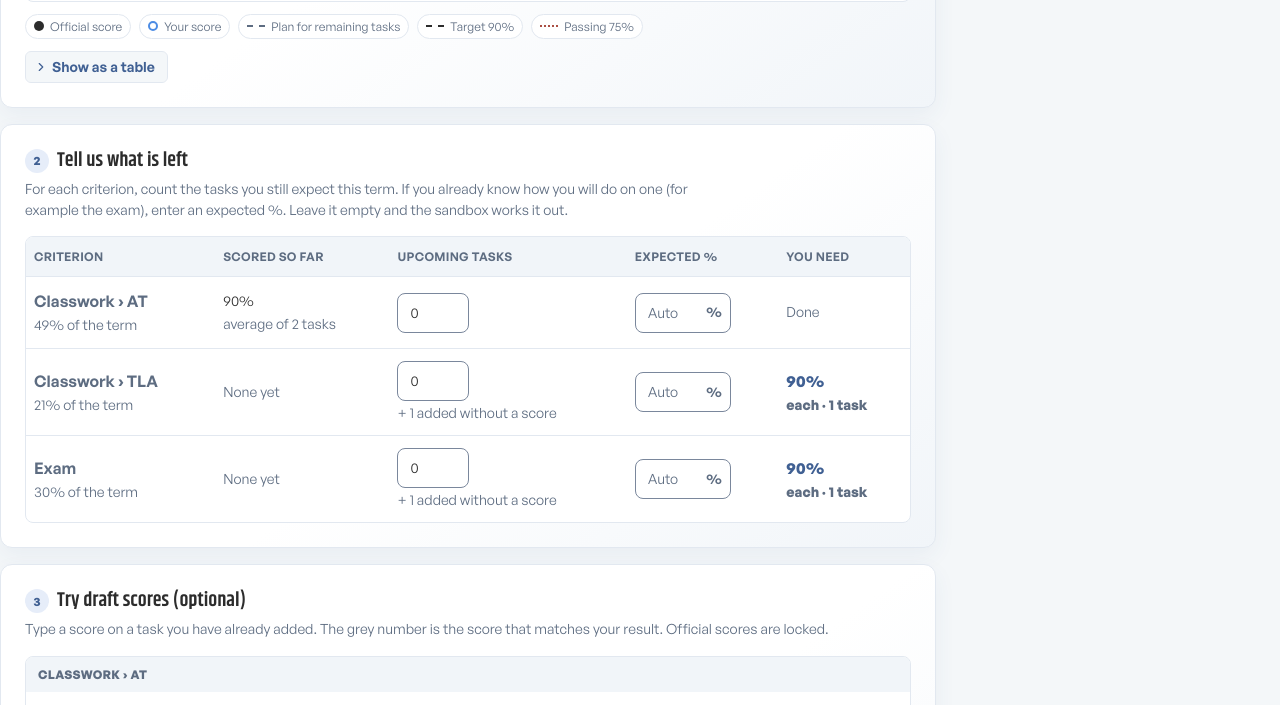
sandbox settings › clearing upcoming tasks saves 0 at once (docs/AUDIT.md B16)
(page scrolled)
Replace the text in the number field named "Upcoming AT tasks not added yet" with "2": (434, 313) [398, 293, 470, 333]
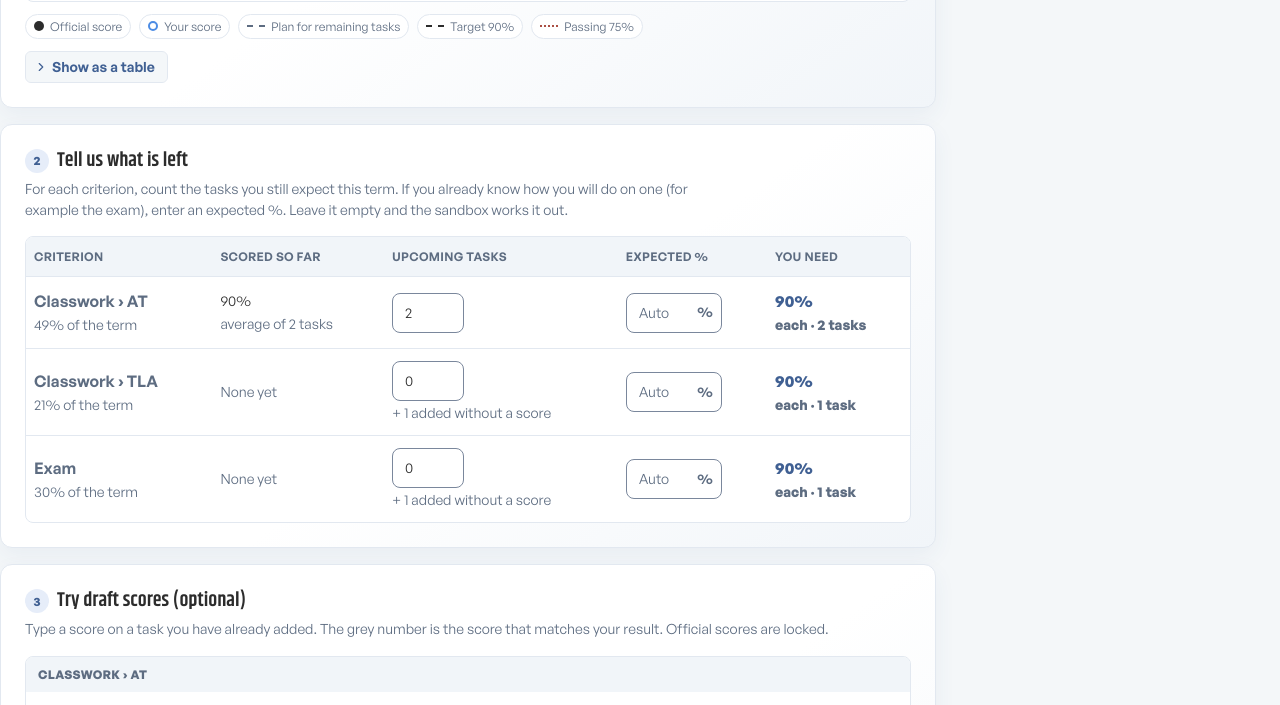
Clear the number field named "Upcoming AT tasks not added yet": (428, 313) [392, 293, 464, 333]
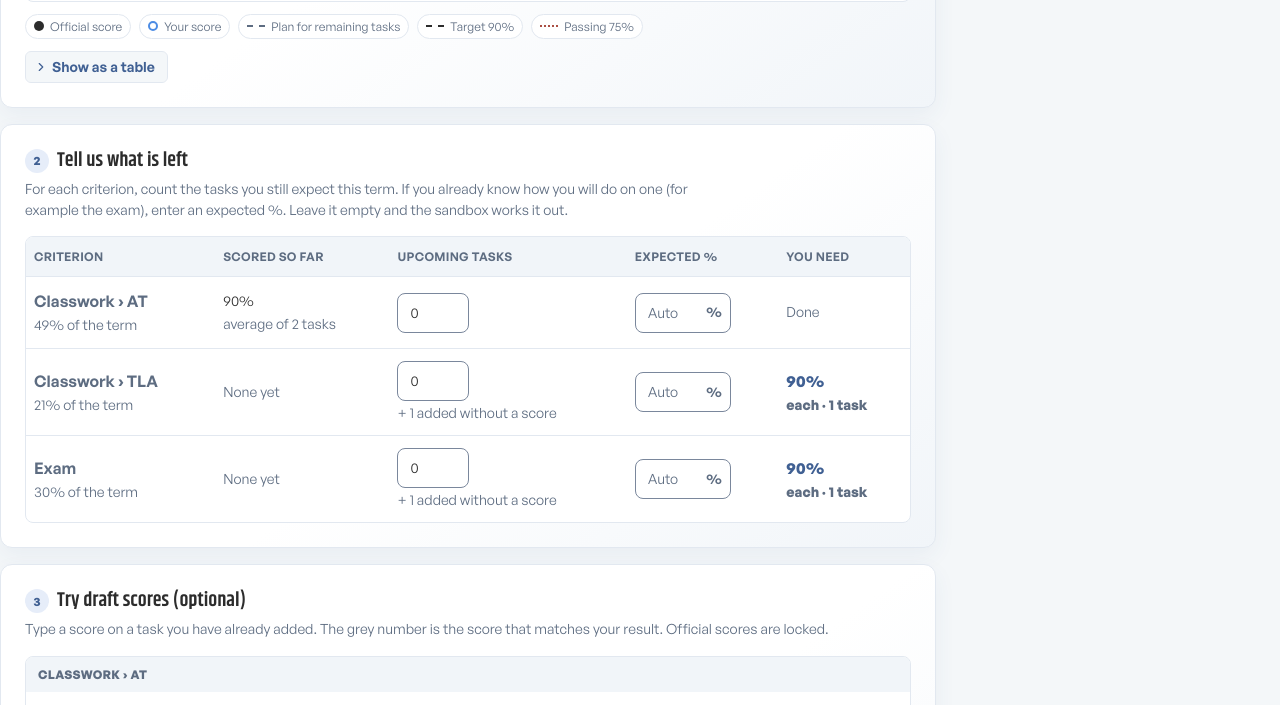
expect the number field named "Upcoming AT tasks not added yet" holds "0": met, box [398, 293, 470, 333]
